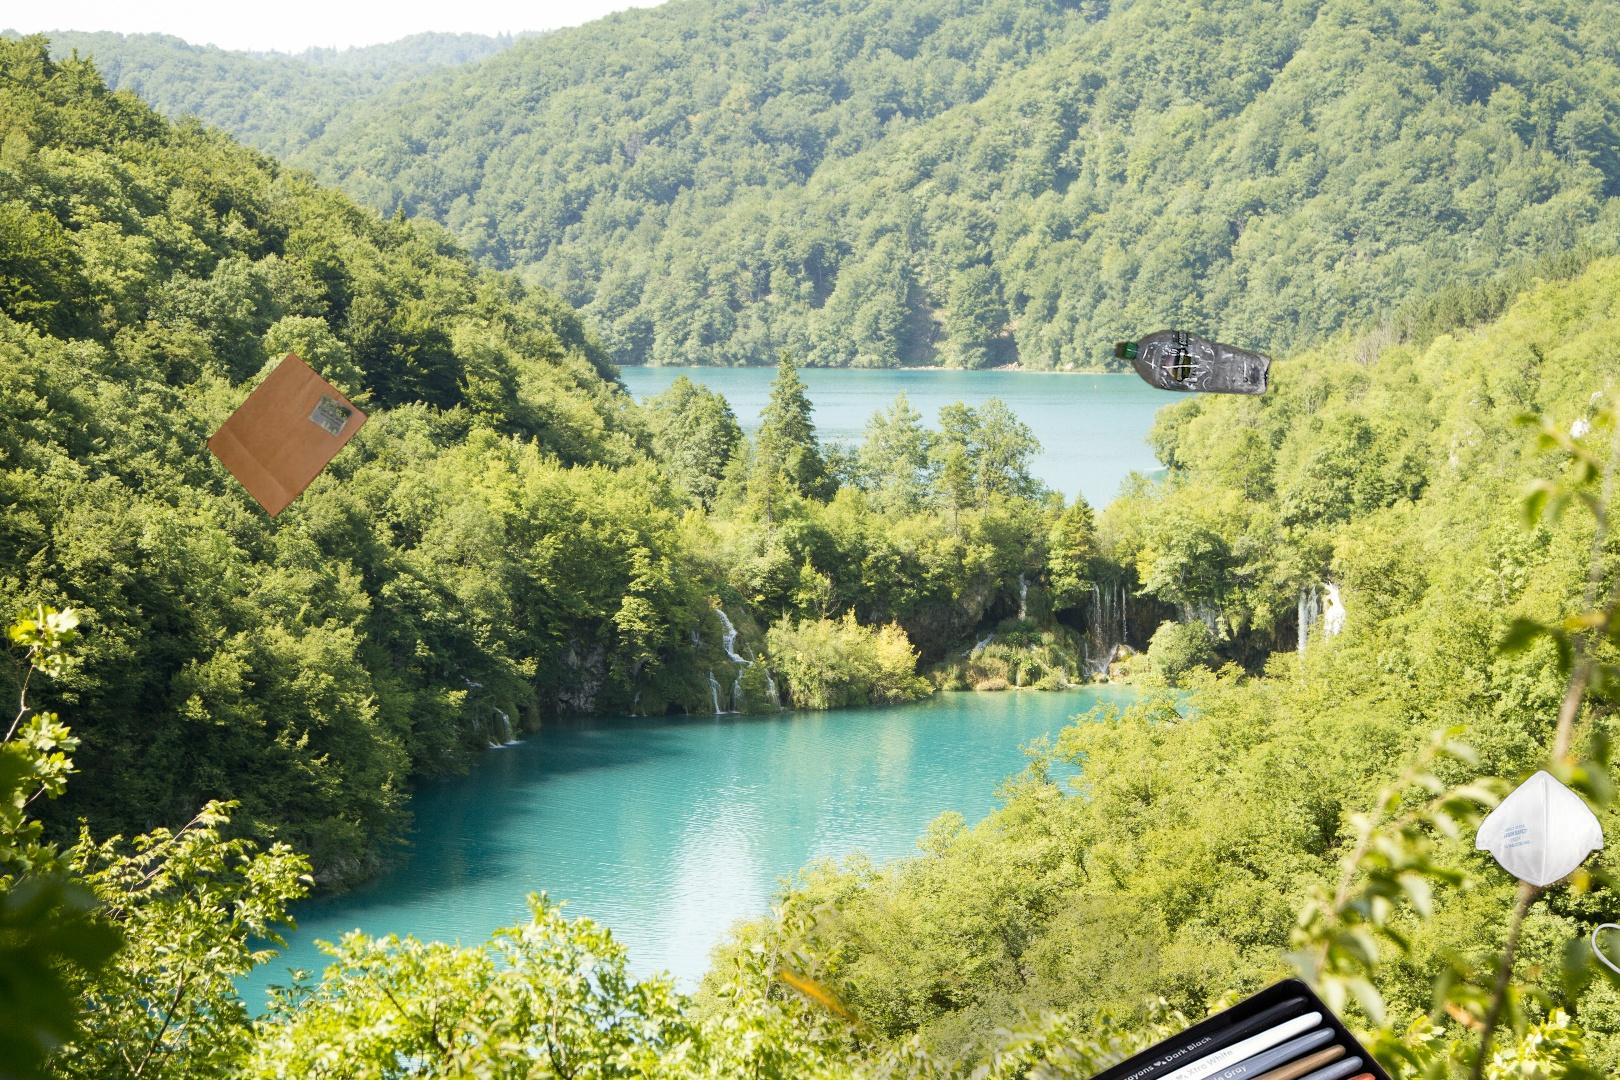paper-bag: (202, 306, 372, 520)
penholder: (785, 970, 1534, 1080), (759, 896, 1160, 1080)
plastic-bottles: (1110, 325, 1275, 399)
trash: (1472, 767, 1607, 890), (1587, 906, 1620, 1035)
